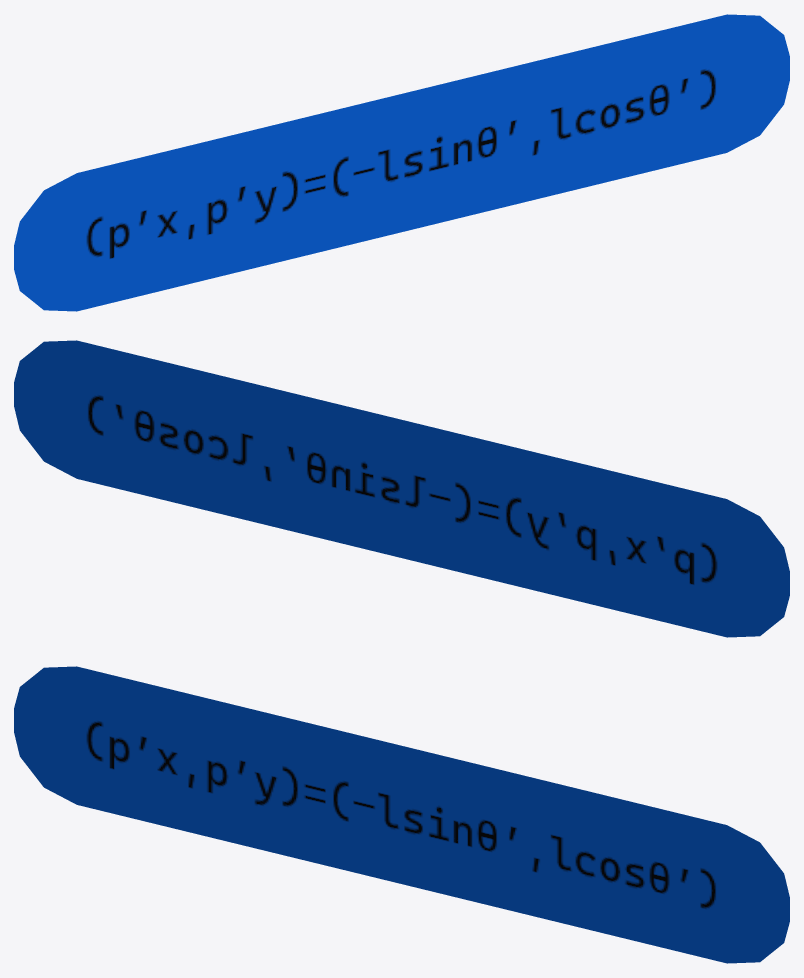
Rendered from MathBox_Blue.fbx.
3 views of the same model, one above another, from view 1: azimuth 30°, elevation 25°; view 2: azimuth 150°, elevation 25°; view 3: azimuth 330°, elevation 25° (orthographic).
Visible parts, largest first — view 1: MathBox_Blue; view 2: MathBox_Blue; view 3: MathBox_Blue.
Part boxes in pixels (box(x1,y1,x2,y2)): MathBox_Blue: box(14, 14, 789, 311); MathBox_Blue: box(14, 340, 789, 637); MathBox_Blue: box(14, 666, 789, 963).
Bounding box in the file's own units: 506 × 86.26 × 2e-05.
